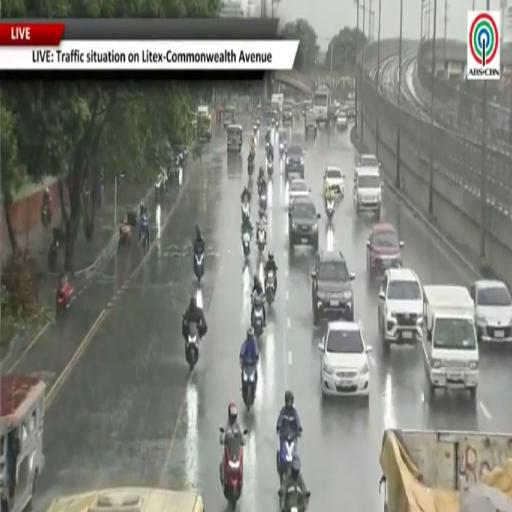car: (318, 322, 371, 397), (379, 268, 423, 351), (312, 251, 354, 326), (470, 280, 511, 342), (367, 222, 404, 277), (289, 198, 320, 251), (354, 168, 382, 220), (285, 143, 305, 180), (354, 154, 380, 182), (324, 166, 344, 197), (288, 179, 309, 206), (305, 112, 317, 138), (336, 108, 348, 131), (282, 103, 293, 124), (328, 103, 339, 123), (345, 101, 355, 119), (302, 101, 312, 118)
jeepney: (0, 376, 46, 511), (48, 488, 204, 511), (197, 106, 212, 141), (227, 124, 242, 153), (223, 105, 235, 129)
motorcycle: (220, 427, 243, 510), (277, 435, 296, 482), (279, 485, 310, 511), (242, 364, 257, 410), (185, 323, 199, 371), (56, 279, 74, 315), (252, 297, 263, 340), (265, 270, 275, 306), (48, 240, 59, 271), (194, 251, 204, 282), (41, 199, 52, 227), (140, 216, 149, 250), (119, 223, 131, 246), (155, 176, 164, 204), (242, 231, 250, 261), (257, 227, 266, 253), (326, 199, 335, 222), (259, 189, 267, 211), (242, 202, 250, 222), (248, 158, 254, 178), (268, 159, 273, 180), (259, 208, 266, 222), (279, 142, 285, 158), (265, 141, 270, 155), (253, 123, 258, 136), (274, 118, 279, 130), (271, 117, 276, 126)
truck: (380, 429, 511, 511), (313, 86, 331, 123), (271, 93, 284, 113)
